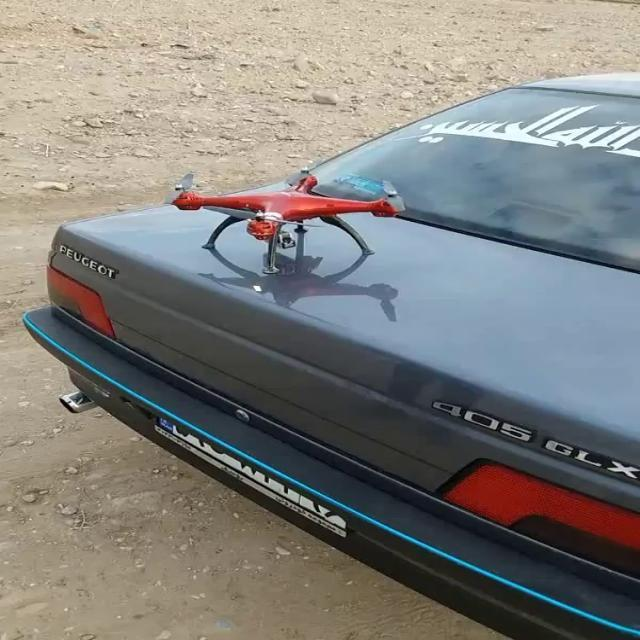drone: (158, 165, 408, 274)
